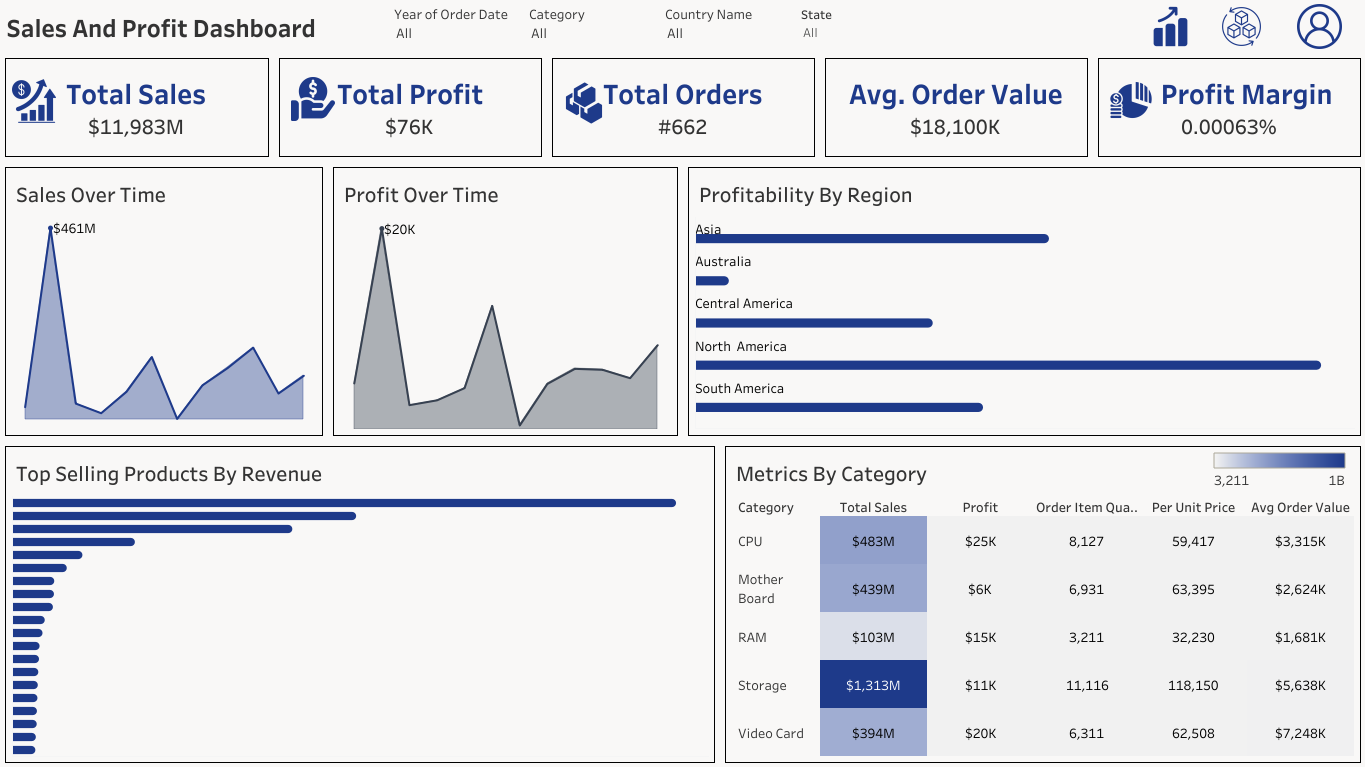

What the dashboard file says about the page in this screenshot:
{"tool":"tableau","page":{"name":"Sales And Profit Overview","canvas":[1366,768],"ordinal":2},"visuals":[{"type":"title","box":[0,0,1132,53]},{"type":"dashboard-object","box":[1132,0,78,53]},{"type":"dashboard-object","box":[1210,0,64,53]},{"type":"dashboard-object","box":[1274,0,92,53]},{"type":"filter","title":"Sales Over Time","param":"[federated.0mpoz2c1onk61n1gjcsnq1a0sbnb].[yr:OrderDate:ok]","box":[394,3,139,45]},{"type":"filter","title":"Metrics By Category","param":"[federated.0mpoz2c1onk61n1gjcsnq1a0sbnb].[none:CategoryName:nk]","box":[529,3,139,45]},{"type":"filter","title":"Sales Over Time","param":"[federated.0mpoz2c1onk61n1gjcsnq1a0sbnb].[none:CountryName:nk]","box":[665,3,139,45]},{"type":"filter","title":"KPI Avg. Order Value","param":"[federated.0mpoz2c1onk61n1gjcsnq1a0sbnb].[none:State:nk]","box":[801,4,139,45]},{"type":"worksheet","title":"KPI Sales Revenue","mark":"Automatic","box":[0,53,274,109]},{"type":"worksheet","title":"KPI Total Profit","mark":"Automatic","box":[274,53,273,109]},{"type":"worksheet","title":"KPI Total No of Orders","mark":"Automatic","box":[547,53,273,109]},{"type":"worksheet","title":"KPI Avg. Order Value","mark":"Automatic","box":[820,53,273,109]},{"type":"worksheet","title":"KPI Profit Margin %","mark":"Automatic","box":[1093,53,273,109]},{"type":"blank","box":[5,58,1355,98]},{"type":"image","param":"Image/profits.png","box":[291,77,50,44]},{"type":"image","param":"Image/profit-margin.png","box":[1109,78,50,44]},{"type":"image","param":"Image/increase.png","box":[12,79,50,44]},{"type":"image","param":"Image/product.png","box":[562,81,50,44]},{"type":"worksheet","title":"Sales Over Time","mark":"Area","rows":["Calculation_727331381885702163","Calculation_727331381885702163"],"cols":["OrderDate"],"box":[0,161.9,328,279.3]},{"type":"worksheet","title":"Profit Over Time","mark":"Area","rows":["Profit","Profit"],"cols":["OrderDate"],"box":[328,161.9,354.9,279.3]},{"type":"worksheet","title":"Profitability By Region","mark":"Line","rows":["RegionName"],"box":[683,161.9,683,279.3]},{"type":"worksheet","title":"Top Selling Products By Revenue","mark":"Line","rows":["ProductName"],"box":[0,441.2,720,326.8]},{"type":"worksheet","title":"Metrics By Category","mark":"Square","rows":["CategoryName"],"box":[720,441.2,646,326.8]},{"type":"legend","title":"Metrics By Category","param":"[federated.0mpoz2c1onk61n1gjcsnq1a0sbnb].[Multiple Values]","box":[1210,449,140,38]}]}

Visuals, with their boxes in screenshot pixels (x1, y1, x2, y2), scaled from the page's 1366x768 canvas onto the 1365x767 screenshot:
title: <box>0,0,1131,53</box>
dashboard-object: <box>1131,0,1209,53</box>
dashboard-object: <box>1209,0,1273,53</box>
dashboard-object: <box>1273,0,1364,53</box>
"Sales Over Time" filter: <box>394,3,533,48</box>
"Metrics By Category" filter: <box>529,3,668,48</box>
"Sales Over Time" filter: <box>665,3,803,48</box>
"KPI Avg. Order Value" filter: <box>800,4,939,49</box>
"KPI Sales Revenue" worksheet: <box>0,53,274,162</box>
"KPI Total Profit" worksheet: <box>274,53,547,162</box>
"KPI Total No of Orders" worksheet: <box>547,53,819,162</box>
"KPI Avg. Order Value" worksheet: <box>819,53,1092,162</box>
"KPI Profit Margin %" worksheet: <box>1092,53,1364,162</box>
blank: <box>5,58,1359,156</box>
image: <box>291,77,341,121</box>
image: <box>1108,78,1158,122</box>
image: <box>12,79,62,123</box>
image: <box>562,81,612,125</box>
"Sales Over Time" worksheet (Area marks): <box>0,162,328,441</box>
"Profit Over Time" worksheet (Area marks): <box>328,162,682,441</box>
"Profitability By Region" worksheet (Line marks): <box>682,162,1364,441</box>
"Top Selling Products By Revenue" worksheet (Line marks): <box>0,441,719,766</box>
"Metrics By Category" worksheet (Square marks): <box>719,441,1364,766</box>
"Metrics By Category" legend: <box>1209,448,1349,486</box>
